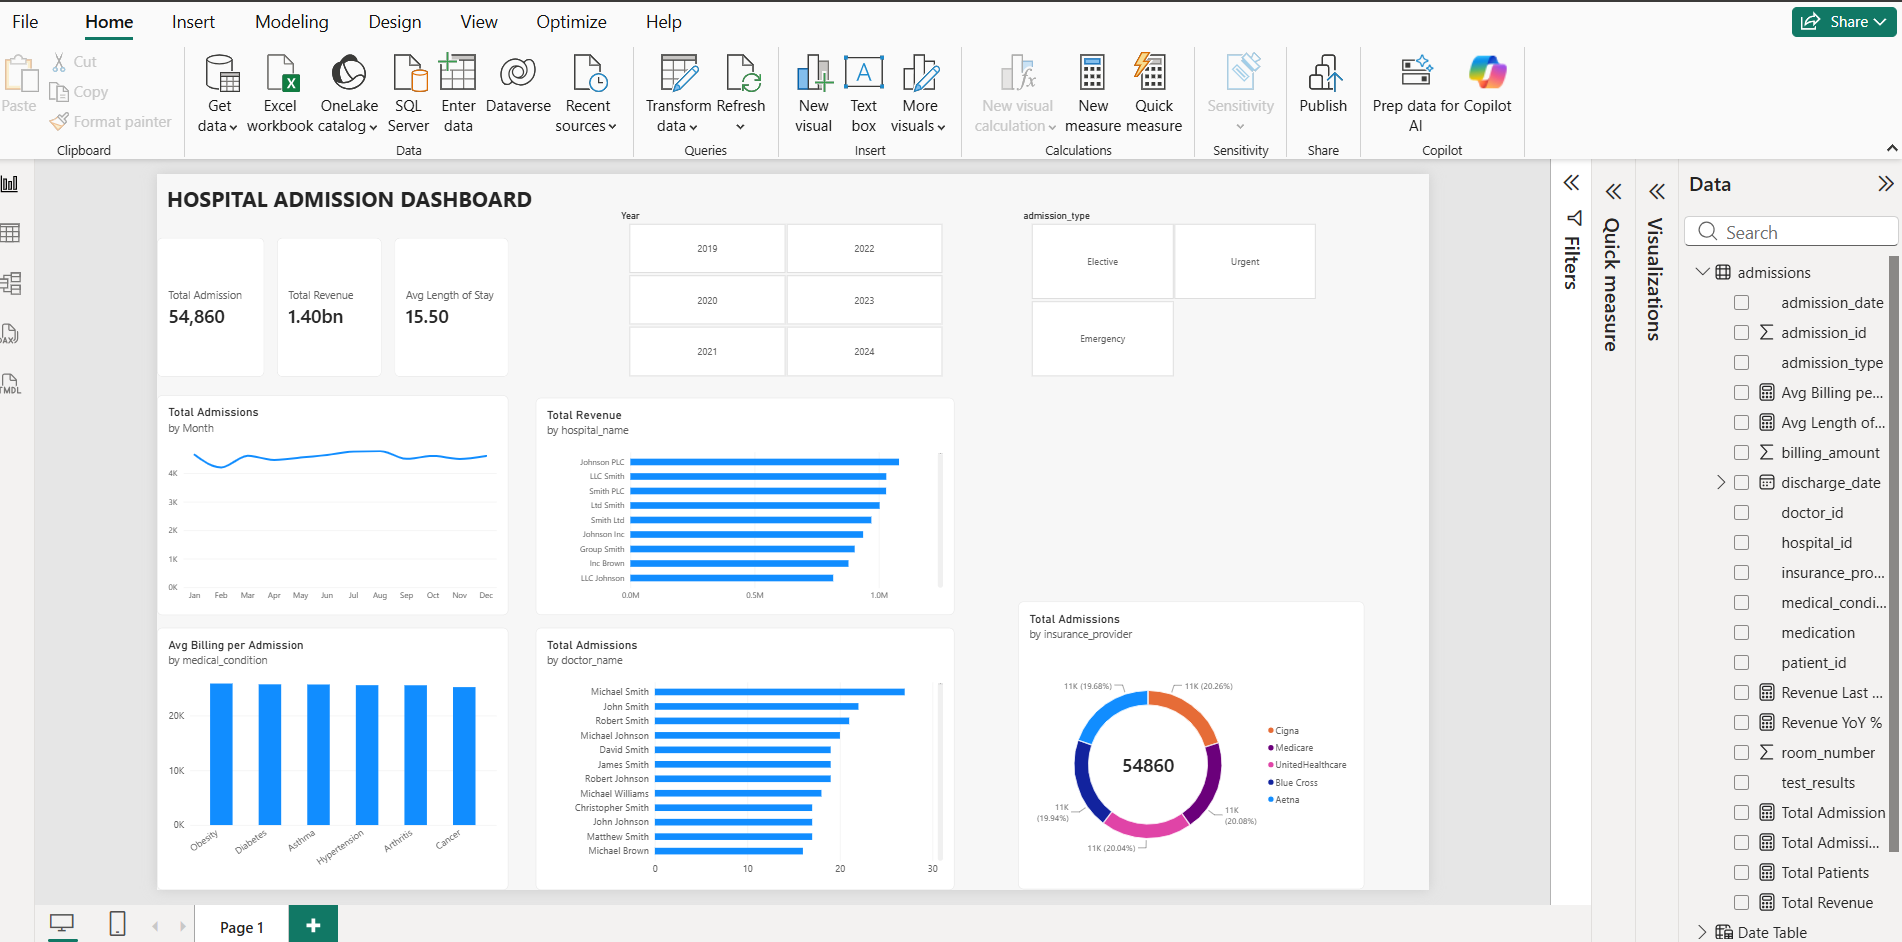

Layout of this report page (visuals, bound fields, positions):
{"tool":"powerbi","page":{"name":"Page 1","canvas":[1920,1080],"ordinal":0},"visuals":[{"type":"cardVisual","fields":{"Data":["admissions.Admissions Full"]},"box":[0,96,162,210],"z":0},{"type":"cardVisual","fields":{"Data":["admissions.Total Revenue"]},"box":[182,96,158,210],"z":1000},{"type":"cardVisual","fields":{"Data":["admissions.Avg Length of Stay"]},"box":[358,96,172,210],"z":2000},{"type":"lineChart","fields":{"Category":["Date Table.Month"],"Y":["admissions.Total Admissions"]},"box":[0,334,530,332],"z":3000},{"type":"clusteredBarChart","fields":{"Category":["hospitals.hospital_name"],"Y":["admissions.Total Revenue"]},"box":[572,338,632,328],"z":4000},{"type":"clusteredColumnChart","fields":{"Category":["admissions.medical_condition"],"Y":["admissions.Avg Billing per Admission"]},"box":[0,684,530,396],"z":5000},{"type":"donutChart","fields":{"Category":["admissions.insurance_provider"],"Y":["admissions.Total Admissions"]},"box":[1300,646,522,434],"z":6000},{"type":"barChart","fields":{"Category":["doctors.doctor_name"],"Y":["admissions.Total Admissions"]},"box":[572,684,632,396],"z":7000},{"type":"slicer","fields":{"Values":["Date Table.Year"]},"box":[692,54,512,252],"z":8000},{"type":"slicer","fields":{"Values":["admissions.admission_type"]},"box":[1300,54,468,252],"z":9000},{"type":"textbox","box":[16,16,628,52],"z":10000}]}

Visuals, with their boxes on the page's 1920x1080 design canvas (x1, y1, x2, y2). These are canvas units, not pixel positions in the 1902x942 screenshot, which may show the page scaled, cropped or inside an application window:
cardVisual - admissions.Admissions Full: <region>0, 96, 162, 306</region>
cardVisual - admissions.Total Revenue: <region>182, 96, 340, 306</region>
cardVisual - admissions.Avg Length of Stay: <region>358, 96, 530, 306</region>
lineChart - Date Table.Month x admissions.Total Admissions: <region>0, 334, 530, 666</region>
clusteredBarChart - hospitals.hospital_name x admissions.Total Revenue: <region>572, 338, 1204, 666</region>
clusteredColumnChart - admissions.medical_condition x admissions.Avg Billing per Admission: <region>0, 684, 530, 1080</region>
donutChart - admissions.insurance_provider x admissions.Total Admissions: <region>1300, 646, 1822, 1080</region>
barChart - doctors.doctor_name x admissions.Total Admissions: <region>572, 684, 1204, 1080</region>
slicer - Date Table.Year: <region>692, 54, 1204, 306</region>
slicer - admissions.admission_type: <region>1300, 54, 1768, 306</region>
textbox: <region>16, 16, 644, 68</region>
